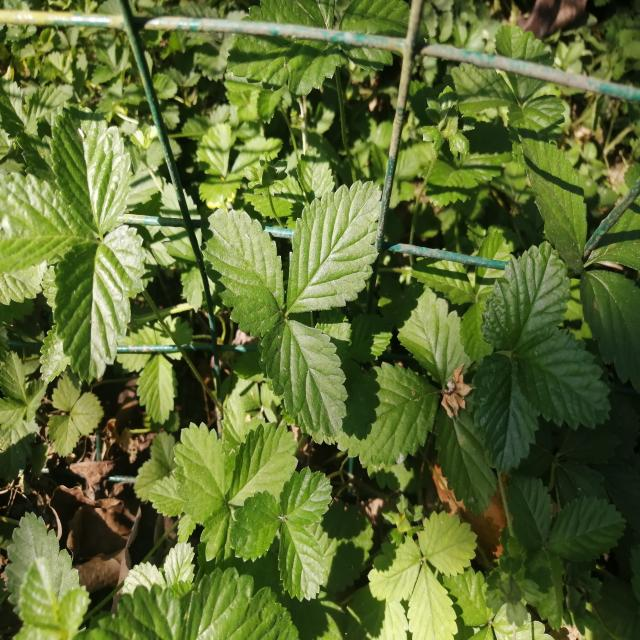Mock_strawberry: (190, 163, 378, 440), (371, 256, 589, 494), (5, 111, 159, 369)
